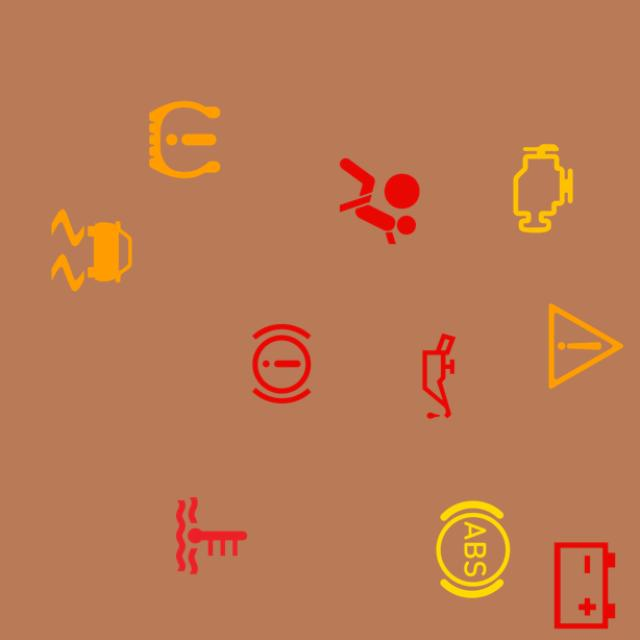Anti Lock Braking System: (420, 496, 526, 603)
Braking System Issue: (228, 311, 335, 417)
Charging System Issue: (532, 533, 638, 639)
Check Engine: (490, 135, 596, 242)
Electronic Stability Problem -ESP-: (38, 197, 145, 303)
Engine Overheating Warning Light: (158, 483, 265, 589)
Low Engine Oil Warning Light: (386, 323, 492, 430)
Low Tire Pressure Warning Light: (131, 86, 238, 193)
Master warning light: (533, 293, 639, 399)
SRS-Airbag: (326, 148, 433, 254)
